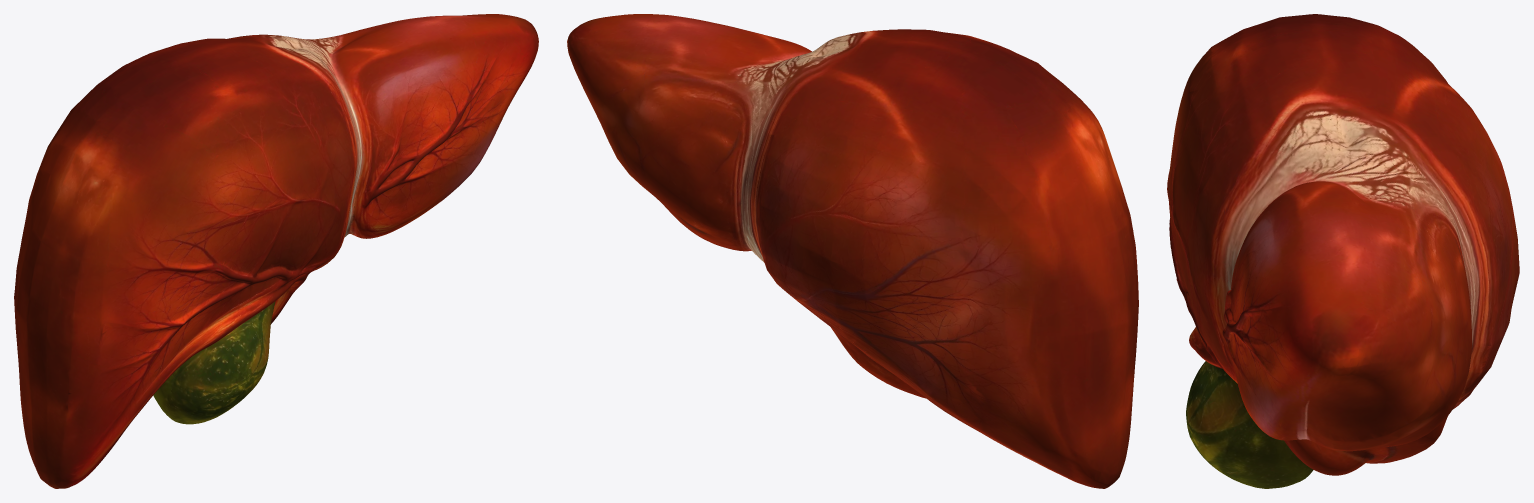
File: liver.glb
3 views of the same model, side by side, from view 1: azimuth 30°, elevation 25°; view 2: azimuth 150°, elevation 25°; view 3: azimuth 270°, elevation 25° (orthographic). The views are drawn at different scales.
Size of the model in its own units: 1.9 by 1.36 by 0.8254.
Materials: 1 (1 with a texture image).
